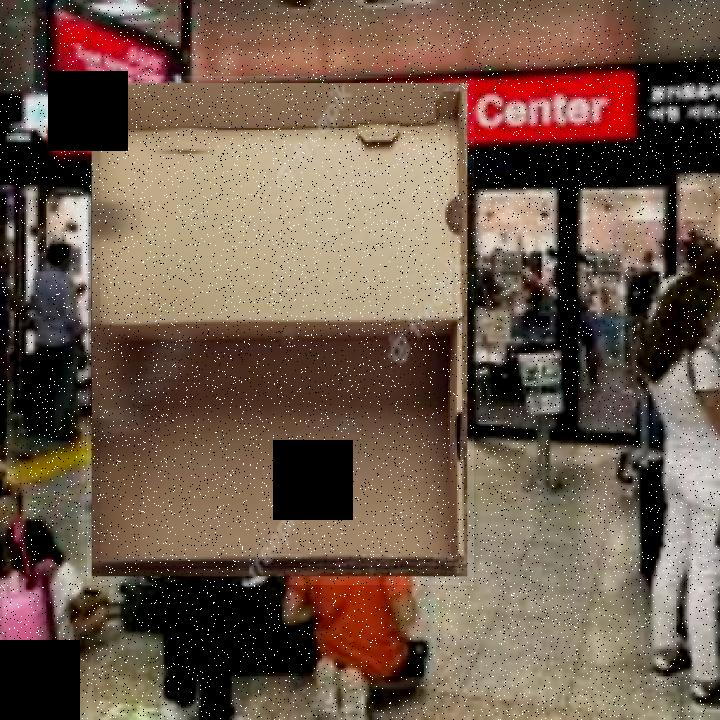box: (87, 76, 474, 585)
